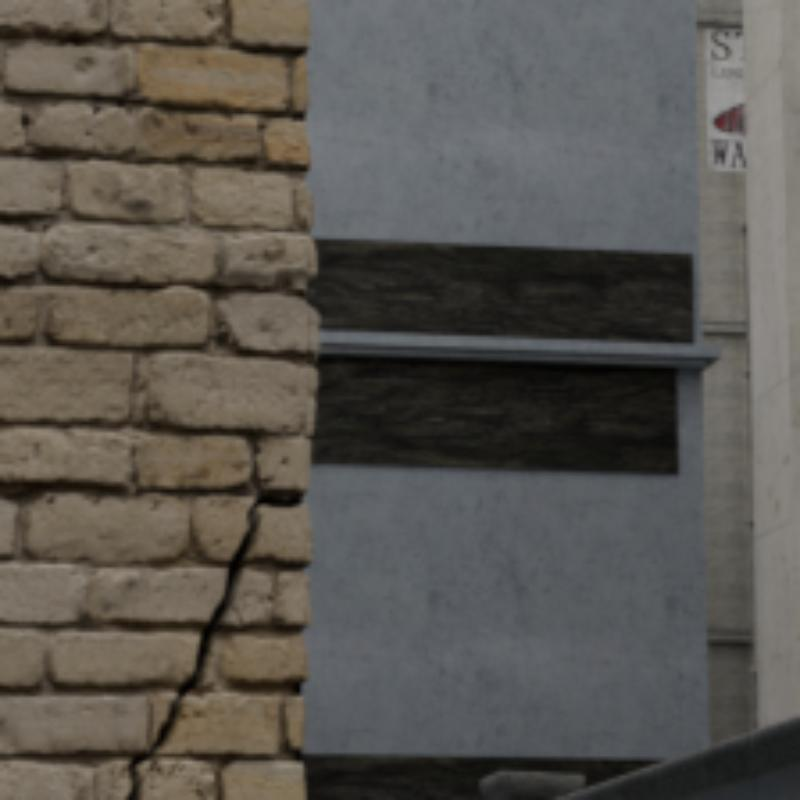pothole: (125, 489, 300, 796)
